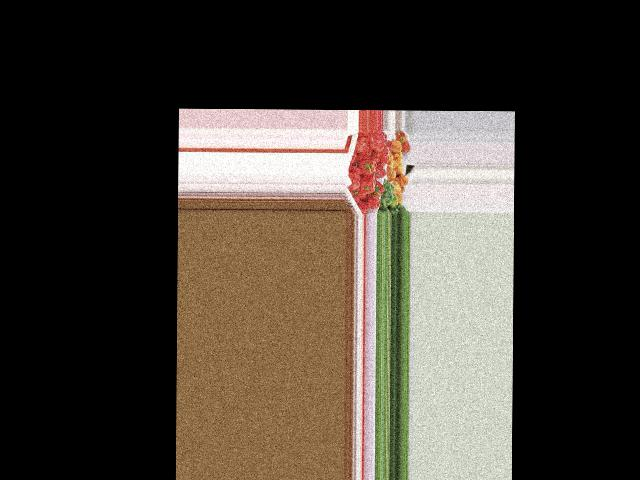bell_pepper: (346, 165, 360, 190)
